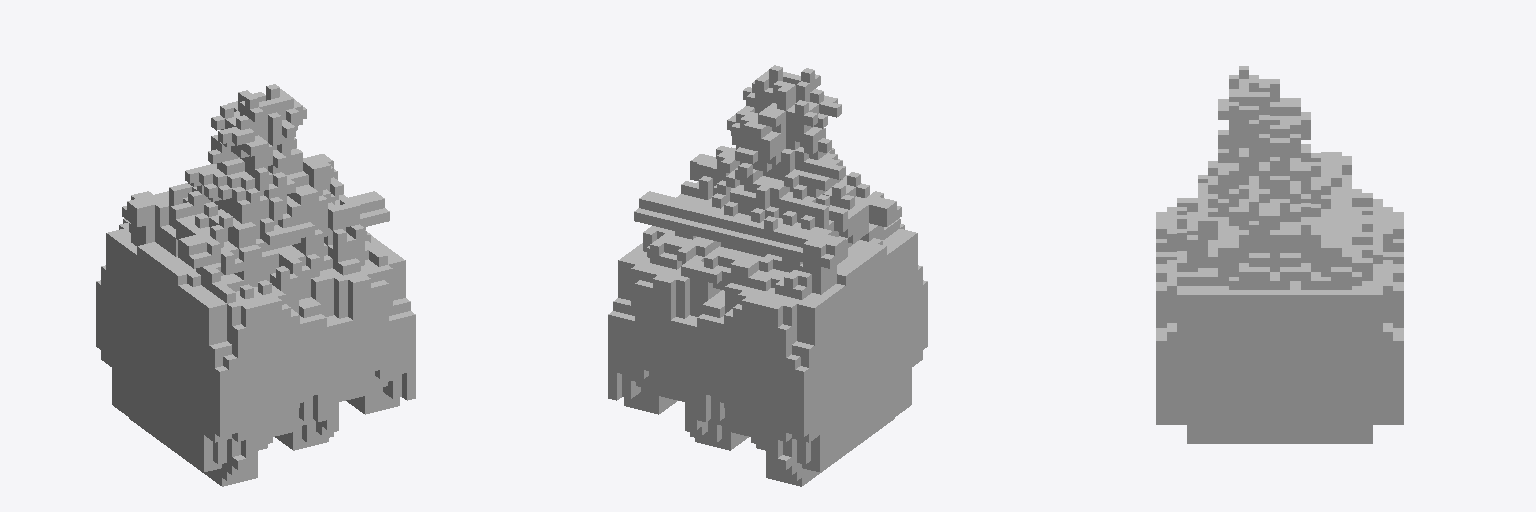
Rendered from rail fire 1.obj.
3 views of the same model, side by side, from view 1: azimuth 30°, elevation 25°; view 2: azimuth 150°, elevation 25°; view 3: azimuth 270°, elevation 25° (orthographic).
Visible parts, largest first — view 1: object 1; view 2: object 1; view 3: object 1.
Boxes of the visible parts, <box> form: object 1: <box>96,84,415,486</box>; object 1: <box>608,65,927,486</box>; object 1: <box>1156,66,1403,443</box>.
Size of the model in its own units: 2.2 by 3.8 by 2.4.